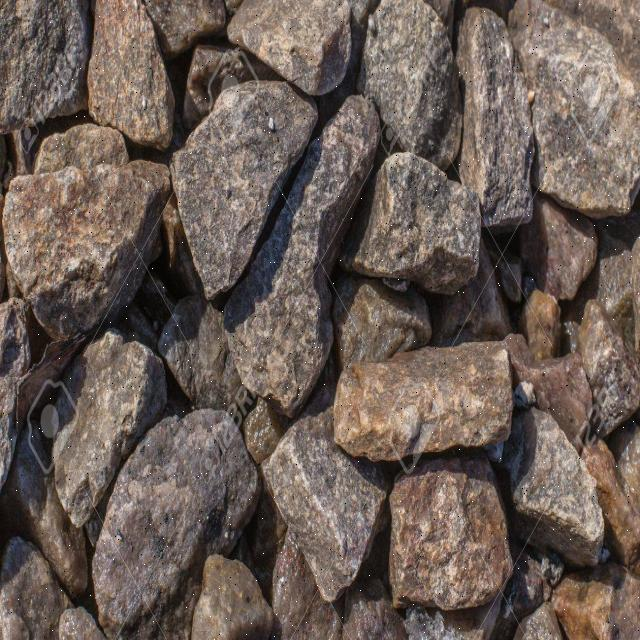Igneous: (0, 3, 640, 634)
